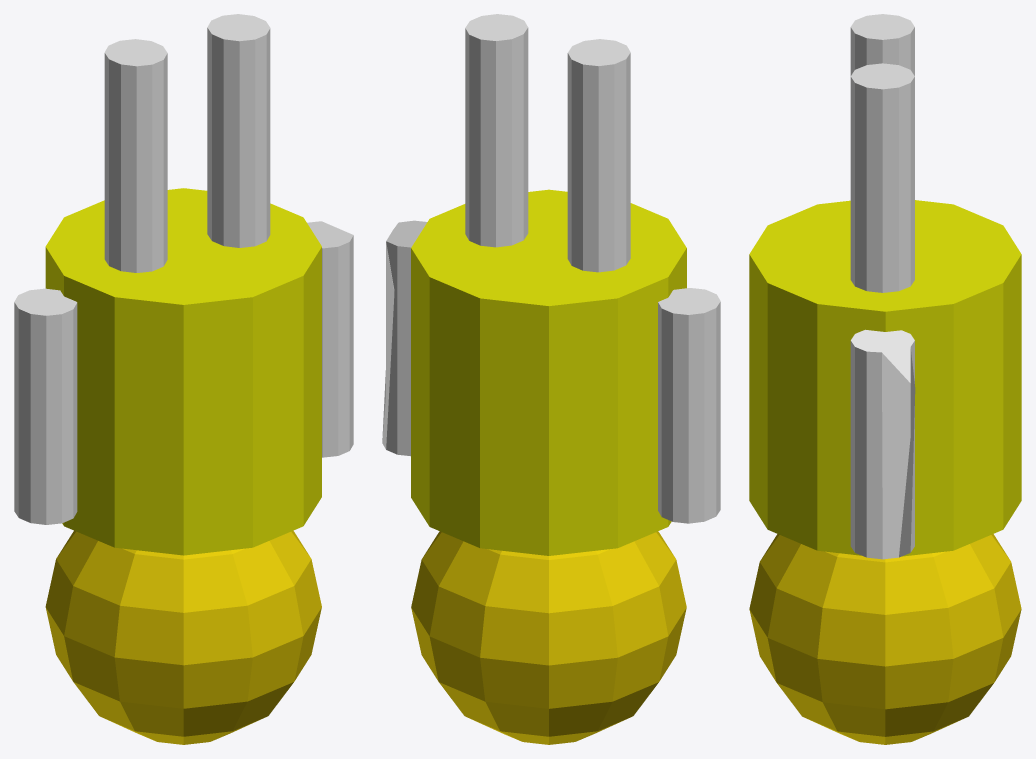
File: AlmostVerity.fbx
3 views of the same model, side by side, from view 1: azimuth 30°, elevation 25°; view 2: azimuth 150°, elevation 25°; view 3: azimuth 270°, elevation 25° (orthographic).
Parts seen in each view (by area): view 1: Sphere; view 2: Sphere; view 3: Sphere.
Part boxes in pixels (<box>): Sphere: <box>14,14,353,744</box>; Sphere: <box>382,14,720,744</box>; Sphere: <box>749,14,1021,744</box>.
Size of the model in its own units: 276 by 553 by 200.
